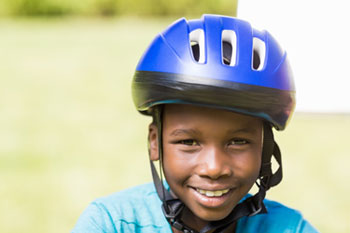helmet: (132, 14, 297, 221)
